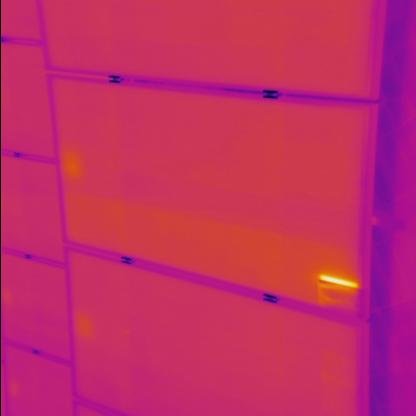hotspot: (314, 275, 360, 311)
